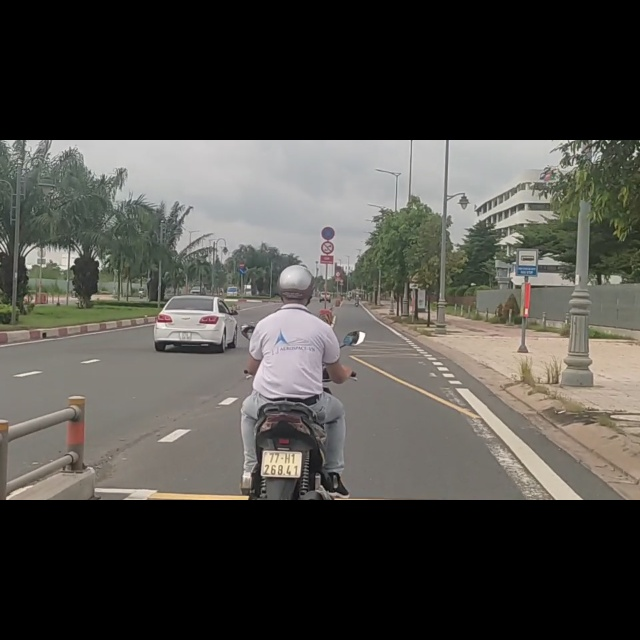bien_hieu_lenh: (517, 191, 539, 244), (321, 153, 335, 179), (320, 179, 334, 203)
